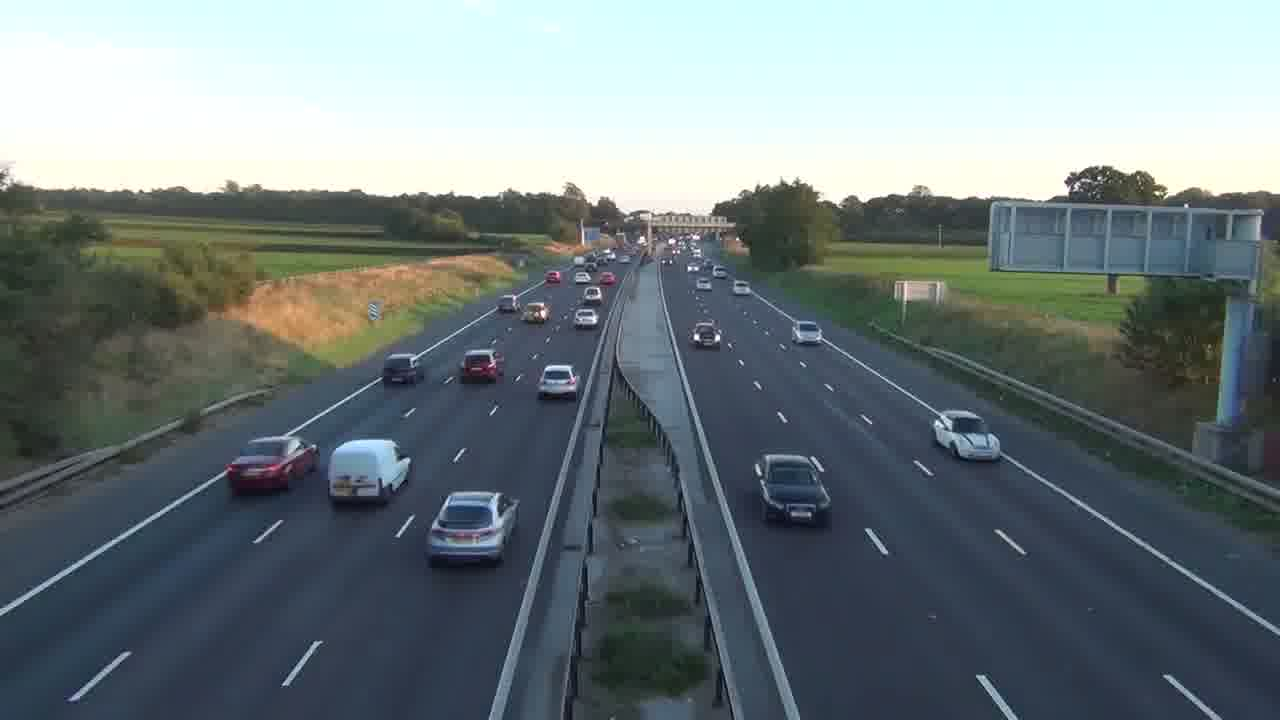car: (425, 490, 520, 567), (753, 453, 832, 526), (225, 435, 319, 496), (931, 409, 1002, 462), (537, 363, 580, 401), (460, 349, 502, 384), (382, 352, 424, 386), (689, 320, 721, 349), (573, 306, 599, 329)
truck: (328, 437, 413, 506)
